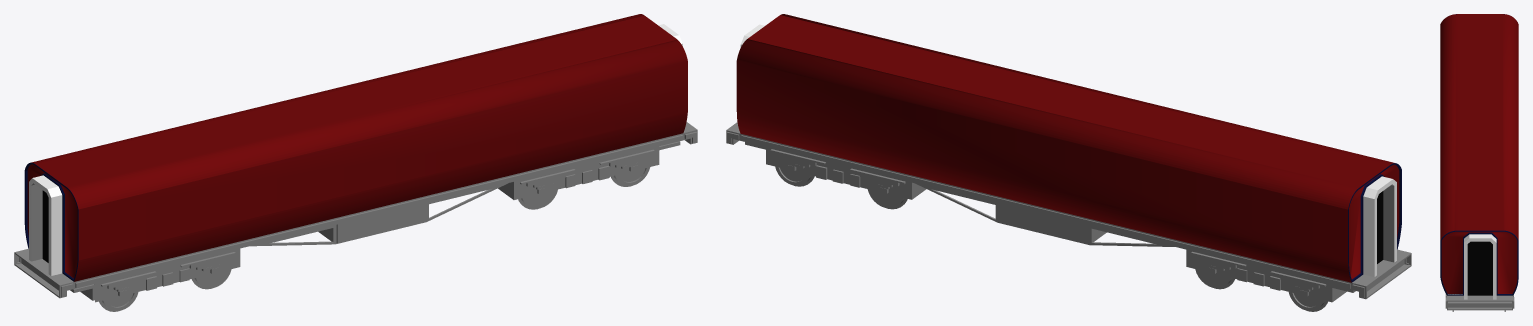
File: Bogey (Red).fbx
3 renders of one model, left to right at view 1: azimuth 30°, elevation 25°; view 2: azimuth 150°, elevation 25°; view 3: azimuth 270°, elevation 25°, orthographic. The views are drawn at different scales.
Parts seen in each view (by area): view 1: Bogey; view 2: Bogey; view 3: Bogey.
Part boxes in pixels (bbox=[...]): Bogey: bbox=[14, 14, 697, 311]; Bogey: bbox=[726, 14, 1411, 311]; Bogey: bbox=[1440, 14, 1518, 311].
Size of the model in its own units: 16240 by 3248 by 2366.
